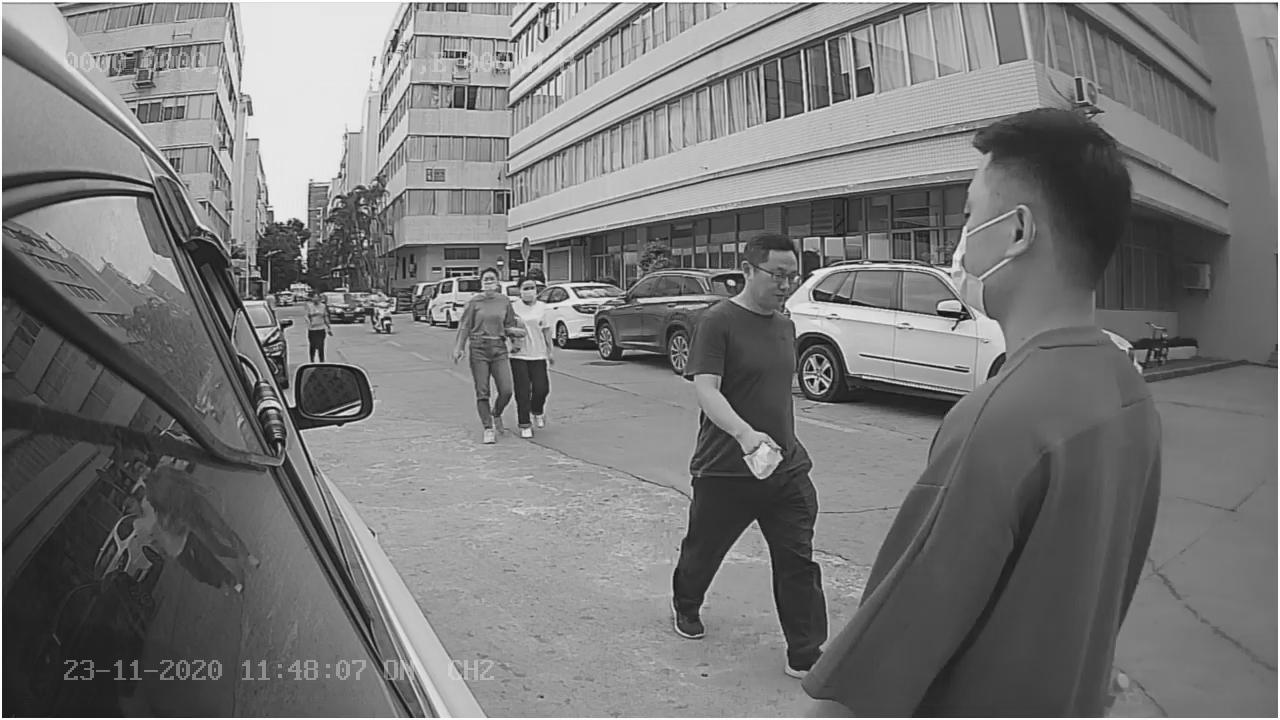person: (664, 229, 830, 666), (450, 263, 518, 442)
